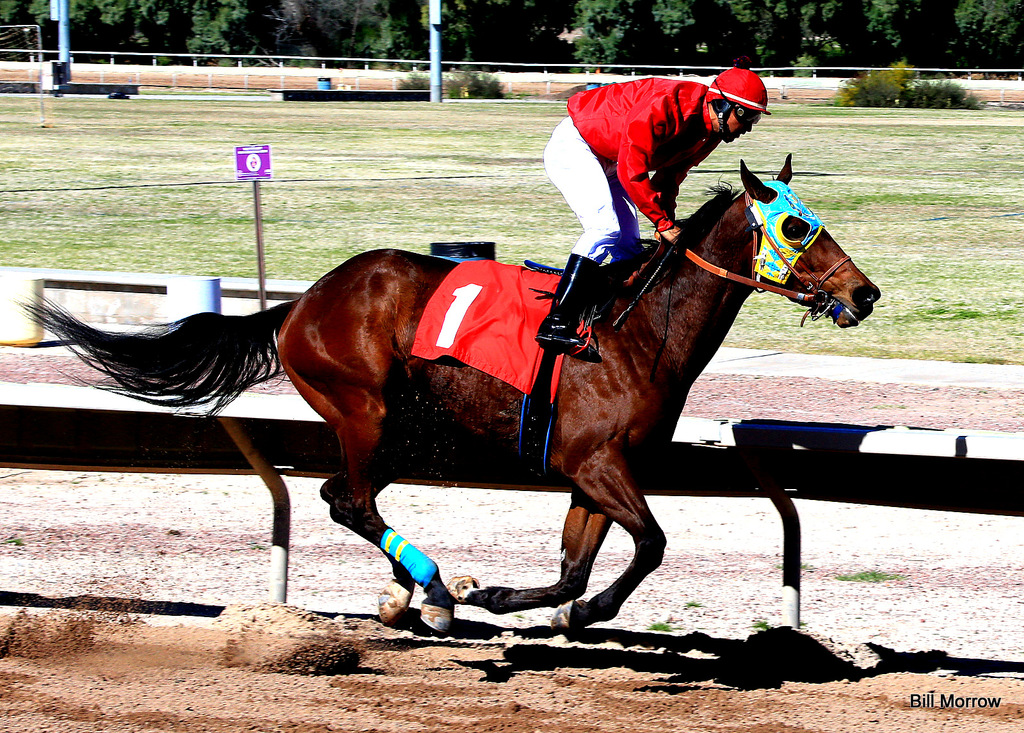horse: (8, 152, 882, 633)
